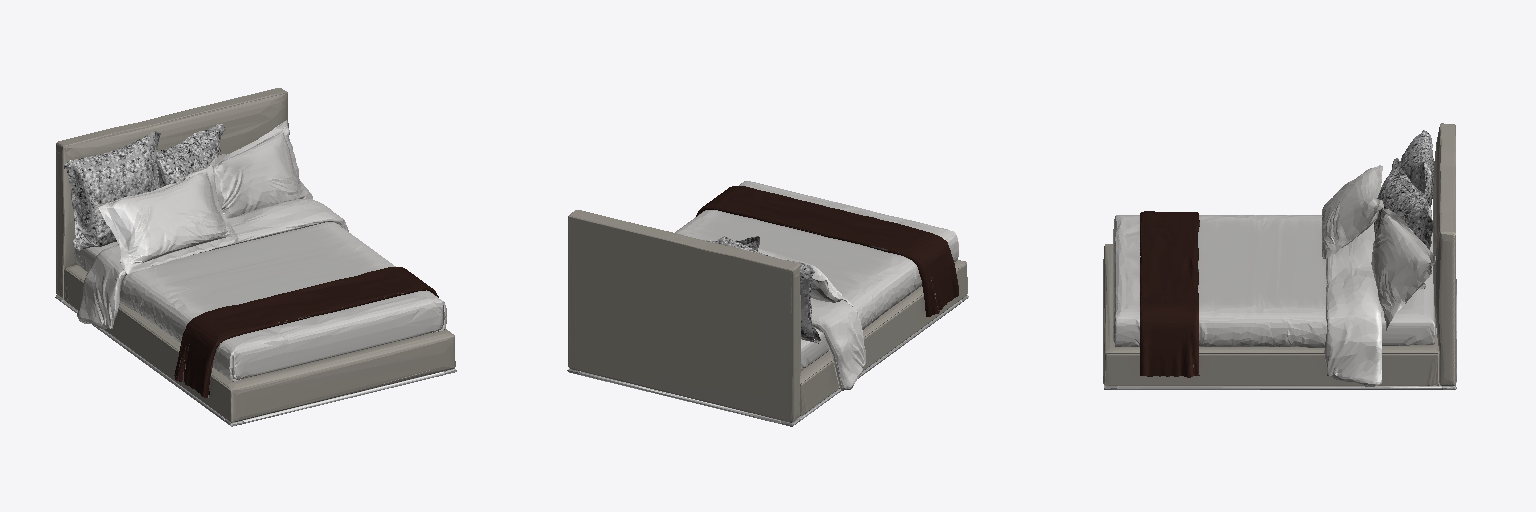
3 views of the same model, side by side, from view 1: azimuth 30°, elevation 25°; view 2: azimuth 150°, elevation 25°; view 3: azimuth 270°, elevation 25° (orthographic).
Visible parts, largest first — view 1: solid_005, solid_003, solid_001, solid_002, solid_006; view 2: solid_003, solid_005, solid_001, solid_002, solid_006; view 3: solid_005, solid_003, solid_001, solid_002, solid_006.
Part boxes in pixels (bbox=[...]): solid_005: bbox=[74, 120, 446, 381]; solid_003: bbox=[56, 88, 455, 422]; solid_001: bbox=[174, 267, 438, 397]; solid_002: bbox=[64, 124, 225, 250]; solid_006: bbox=[62, 300, 443, 423]; solid_003: bbox=[568, 210, 967, 422]; solid_005: bbox=[675, 181, 958, 390]; solid_001: bbox=[696, 186, 958, 316]; solid_002: bbox=[704, 236, 820, 343]; solid_006: bbox=[579, 300, 961, 423]; solid_005: bbox=[1113, 165, 1435, 386]; solid_003: bbox=[1103, 123, 1455, 385]; solid_001: bbox=[1140, 211, 1199, 377]; solid_002: bbox=[1374, 130, 1433, 288]; solid_006: bbox=[1103, 285, 1456, 389].
Bounding box in the file's own units: 1.9 × 1.11 × 2.23.
1 materials, 1 textured.